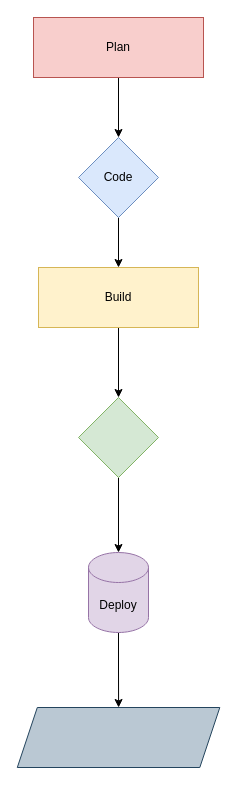
Image size: 238x785. Some labels were removed from this diagram. The box of each missing label's shape, as (x1, y1, x2, y2) in pixels:
Monitor: (16, 706, 220, 768)
Test: (78, 396, 158, 478)
